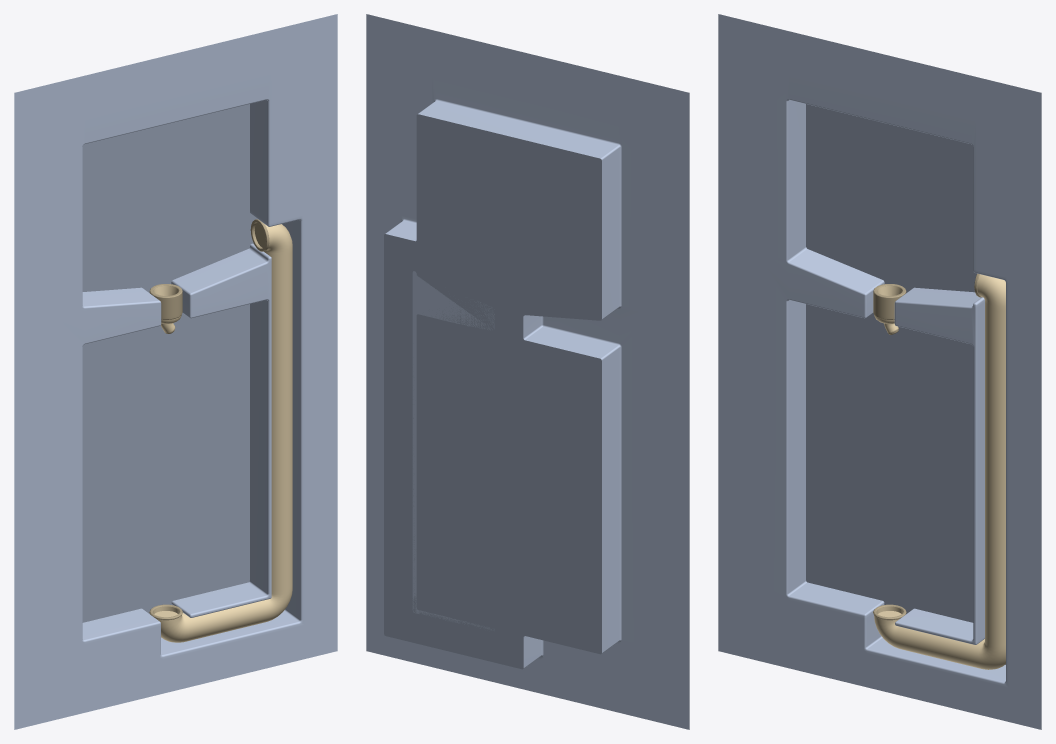
File: platformGame (1).fbx
3 renders of one model, left to right at view 1: azimuth 30°, elevation 25°; view 2: azimuth 150°, elevation 25°; view 3: azimuth 330°, elevation 25°, orthographic.
Visible parts, largest first — view 1: platform, pipe-side, pipe_top; view 2: platform; view 3: platform, pipe-side, pipe_top.
Part boxes in pixels (<box>): platform: <box>14,14,337,729</box>; pipe-side: <box>149,219,292,642</box>; pipe_top: <box>149,284,182,333</box>; platform: <box>366,14,689,729</box>; platform: <box>718,14,1041,729</box>; pipe-side: <box>873,273,1005,669</box>; pipe_top: <box>873,284,906,334</box>.
Bounding box in the file's own units: 8.52 × 16.06 × 0.8554.
